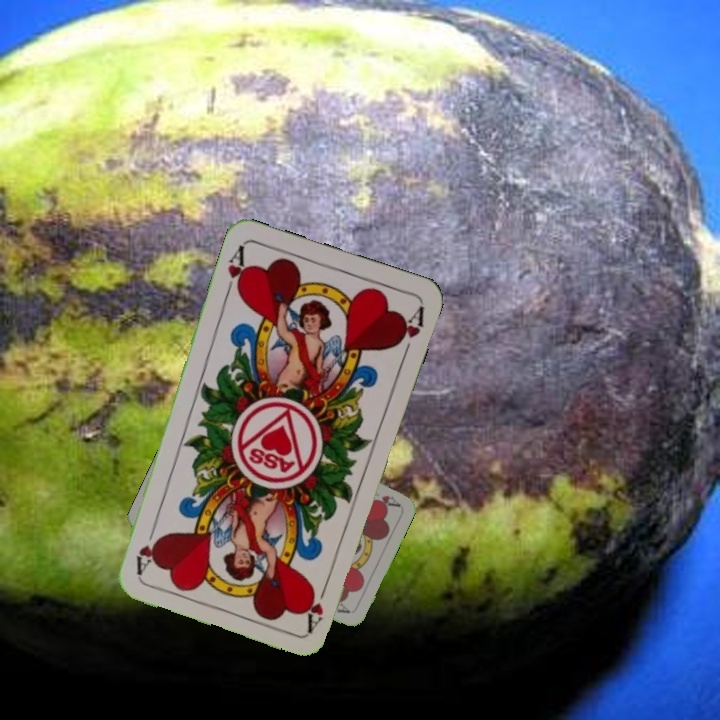HA: (221, 241, 251, 300), (303, 576, 332, 634), (371, 491, 401, 509)
